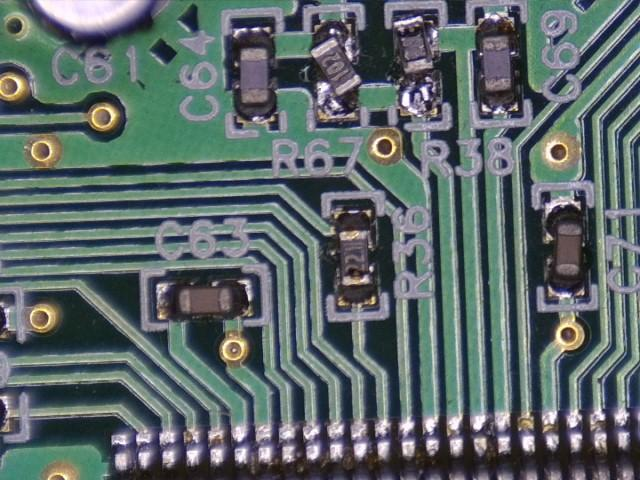Incorrect_installation: (392, 9, 443, 117), (310, 21, 364, 121), (544, 196, 586, 300)
